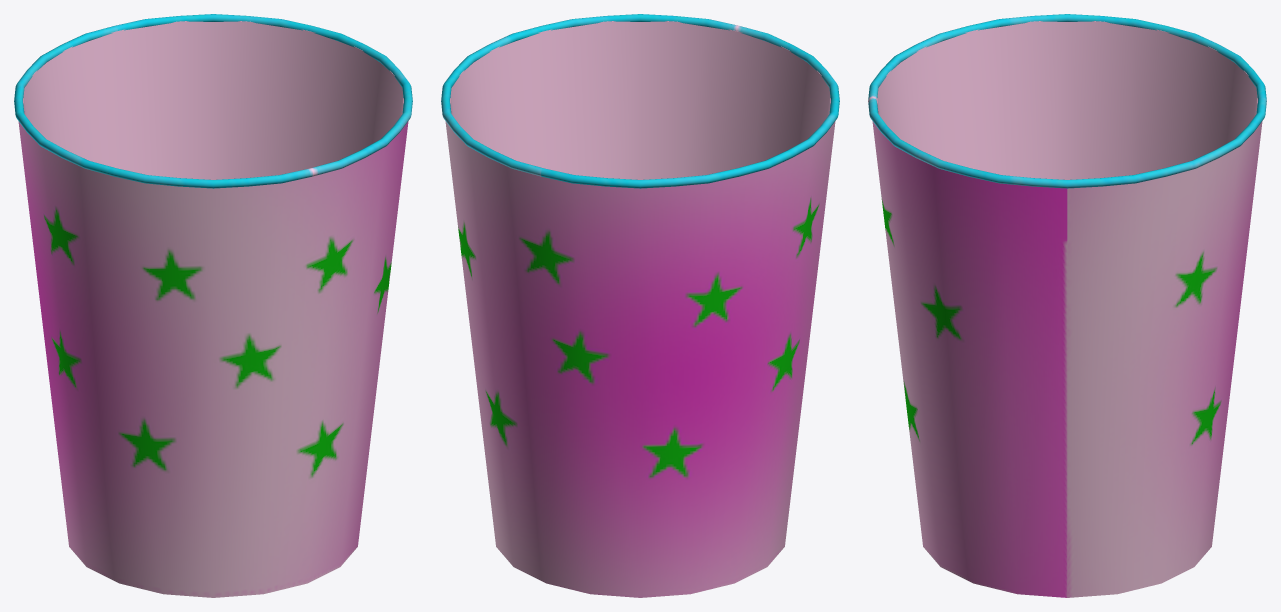
Rendered from cylinder_test_navy_wood_c1.dae.
The picture shows the model from 3 angles, left to right: view 1: azimuth 30°, elevation 25°; view 2: azimuth 150°, elevation 25°; view 3: azimuth 270°, elevation 25°; orthographic projection.
Visible parts, largest first — view 1: aws_Trash_01_visual; view 2: aws_Trash_01_visual; view 3: aws_Trash_01_visual.
Part boxes in pixels (x1,y1,x2,y2): aws_Trash_01_visual: (14, 14, 412, 597); aws_Trash_01_visual: (441, 14, 839, 597); aws_Trash_01_visual: (868, 14, 1266, 597).
Size of the model in its own units: 28.5 by 28.28 by 34.34.
1 material, 1 textured.
